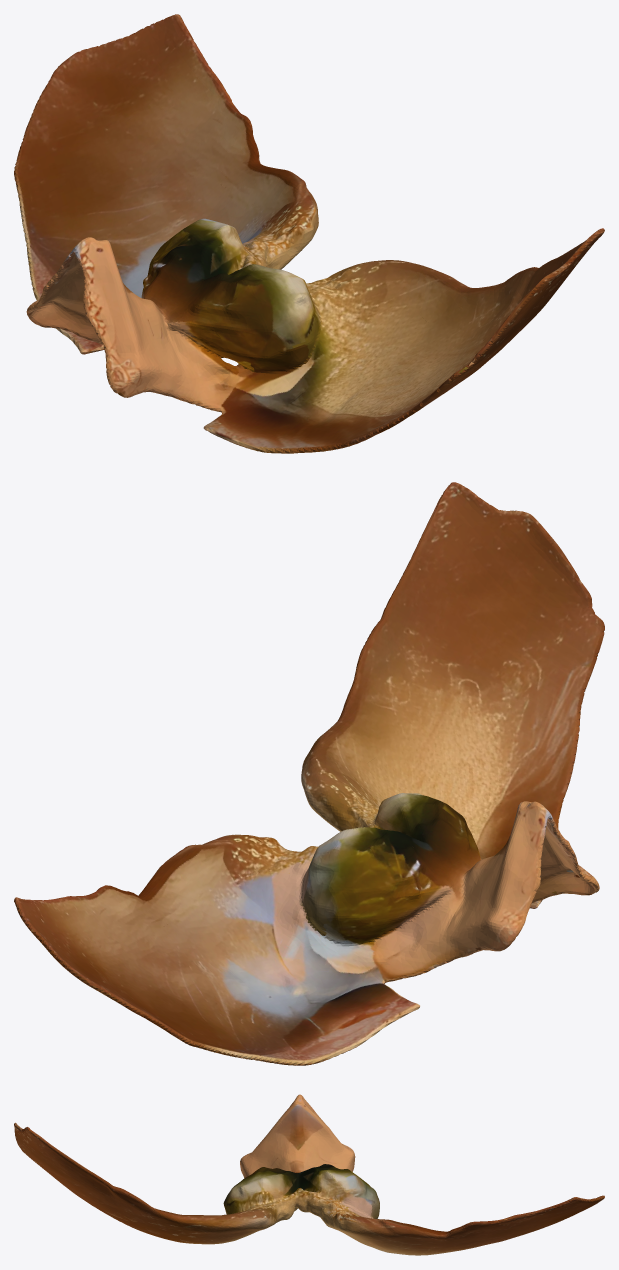
File: golden-heart-with-wings.glb
The picture shows the model from 3 angles, top to bottom: view 1: azimuth 30°, elevation 25°; view 2: azimuth 150°, elevation 25°; view 3: azimuth 270°, elevation 25°; orthographic projection. The views are drawn at different scales.
Visible parts, largest first — view 1: golden heart with wings_textured.obj; view 2: golden heart with wings_textured.obj; view 3: golden heart with wings_textured.obj.
Part boxes in pixels (x1,y1,x2,y2): golden heart with wings_textured.obj: (14,14,604,453); golden heart with wings_textured.obj: (14,482,604,1065); golden heart with wings_textured.obj: (14,1094,604,1255).
Size of the model in its own units: 0.8197 by 0.6562 by 1.99.
Materials: 1 (1 with a texture image).
